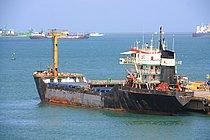Ship: (114, 24, 210, 120), (28, 27, 123, 111)
